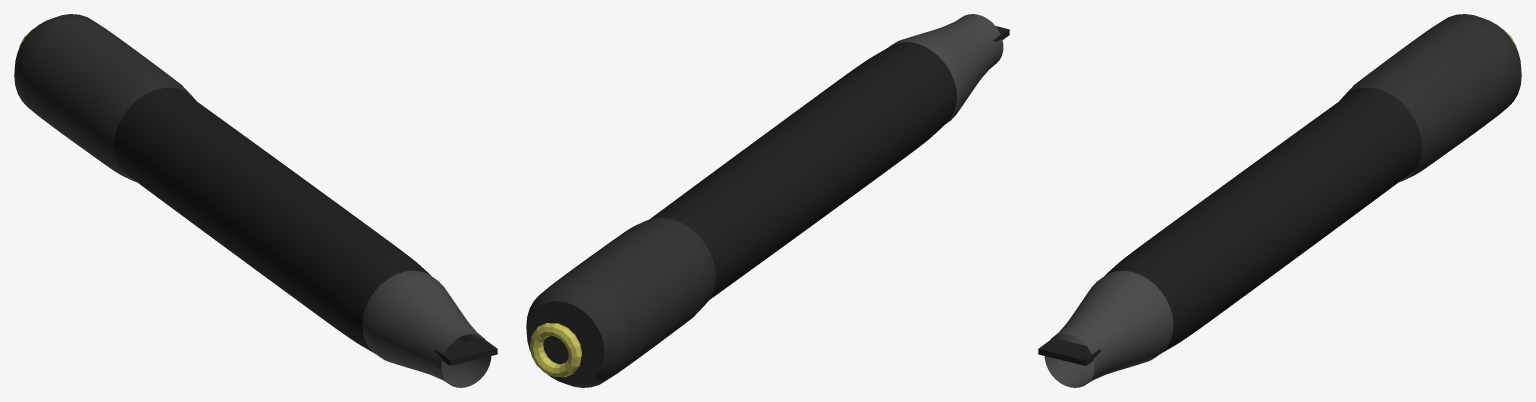
Rendered from pennarello.glb.
The picture shows the model from 3 angles, left to right: view 1: azimuth 30°, elevation 25°; view 2: azimuth 150°, elevation 25°; view 3: azimuth 330°, elevation 25°; orthographic projection.
Parts seen in each view (by area): view 1: Pen_Corpo, Pen_Tappo, Pen_Punta, Pen_Filo; view 2: Pen_Corpo, Pen_Tappo, Pen_Punta, Pen_Anellino; view 3: Pen_Corpo, Pen_Tappo, Pen_Punta, Pen_Filo.
Part boxes in pixels (bbox=[...]): Pen_Corpo: bbox=[114, 87, 430, 353]; Pen_Tappo: bbox=[14, 14, 196, 181]; Pen_Punta: bbox=[362, 270, 491, 387]; Pen_Filo: bbox=[435, 338, 497, 365]; Pen_Corpo: bbox=[649, 42, 956, 299]; Pen_Tappo: bbox=[526, 217, 715, 387]; Pen_Punta: bbox=[889, 14, 1003, 124]; Pen_Anellino: bbox=[529, 323, 581, 377]; Pen_Corpo: bbox=[1105, 87, 1421, 353]; Pen_Tappo: bbox=[1339, 14, 1521, 181]; Pen_Punta: bbox=[1044, 270, 1173, 387]; Pen_Filo: bbox=[1038, 338, 1100, 365].
Size of the model in its own units: 0.0444 by 0.0444 by 0.3468.
